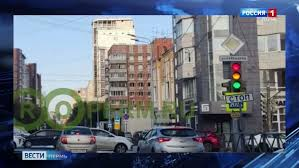tl: (219, 62, 244, 93)
